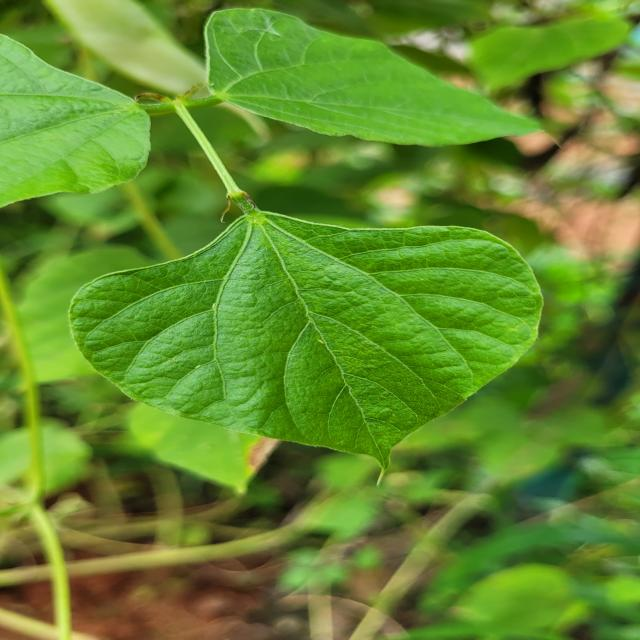Dolicos bean_healthy: (72, 213, 549, 469), (204, 4, 530, 148), (0, 30, 158, 213)
